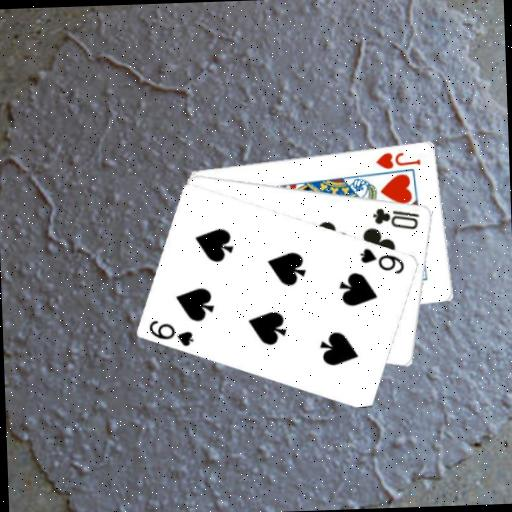10C: (369, 203, 421, 232)
6S: (145, 315, 195, 349), (356, 243, 406, 276)
JH: (372, 147, 422, 170)
